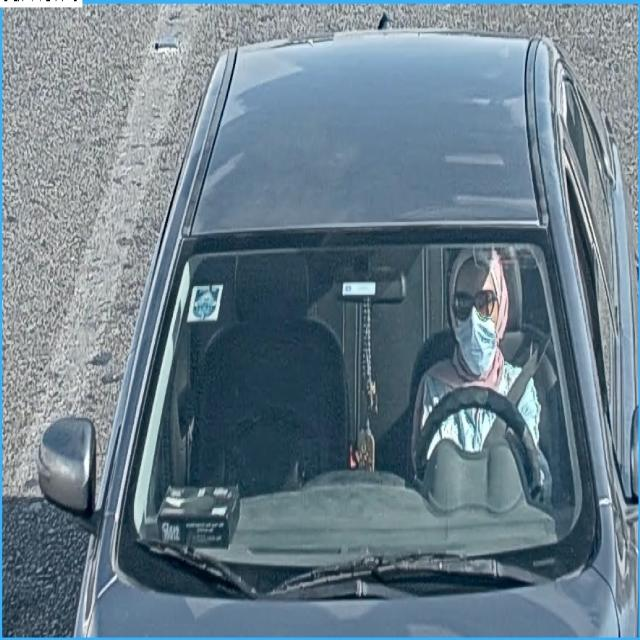windshield: (122, 247, 590, 576)
